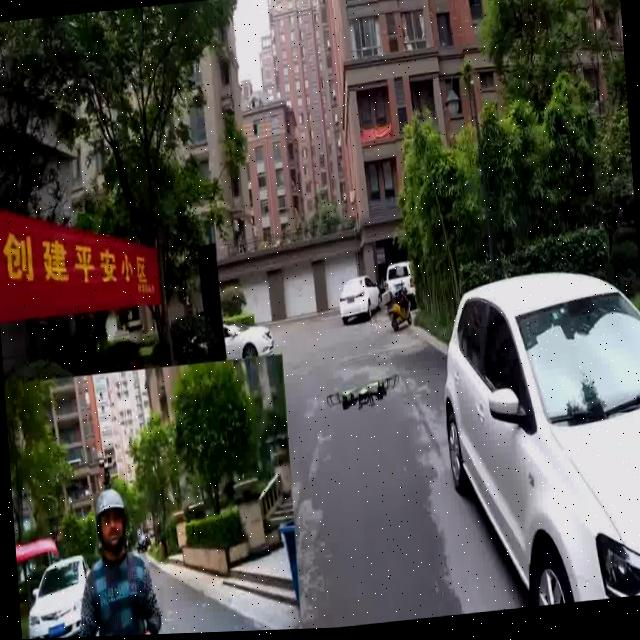drone: (316, 357, 403, 427)
